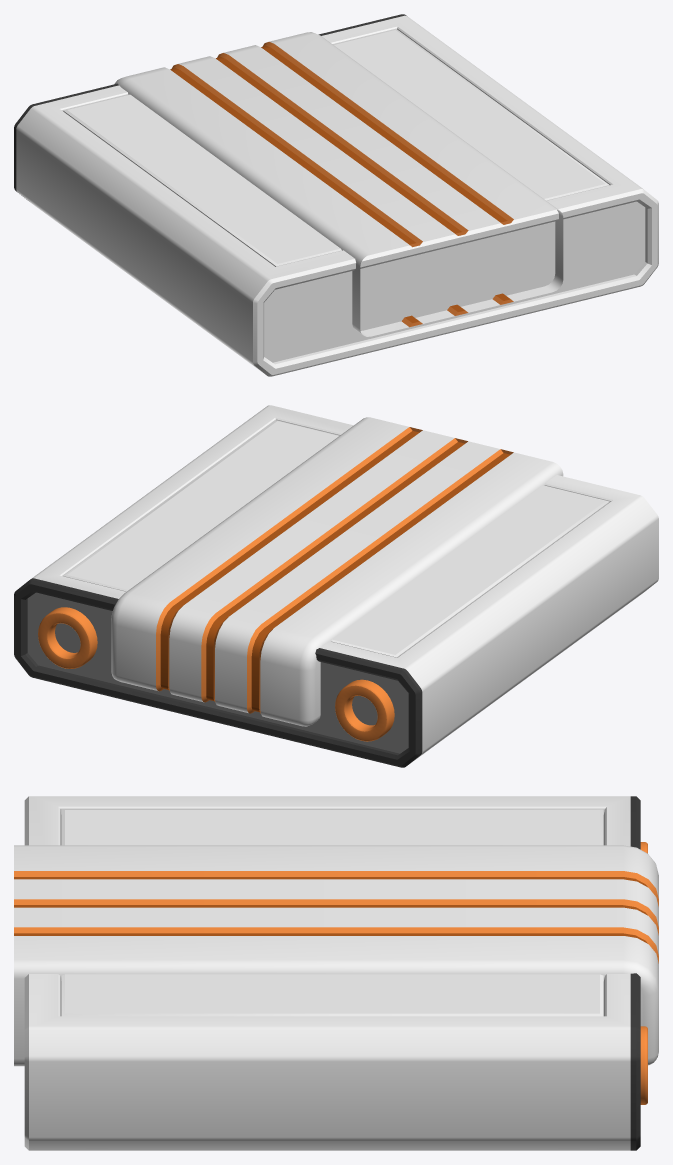
The model's file is FloorTile4x.fbx.
3 views of the same model, one above another, from view 1: azimuth 30°, elevation 25°; view 2: azimuth 150°, elevation 25°; view 3: azimuth 270°, elevation 25° (orthographic). The views are drawn at different scales.
Visible parts, largest first — view 1: Cylinder.007; view 2: Cylinder.007; view 3: Cylinder.007.
Part boxes in pixels (x1,y1,x2,y2): Cylinder.007: (14, 14, 658, 376); Cylinder.007: (14, 405, 658, 767); Cylinder.007: (14, 796, 658, 1150).
Bounding box in the file's own units: 400 × 97.78 × 433.
